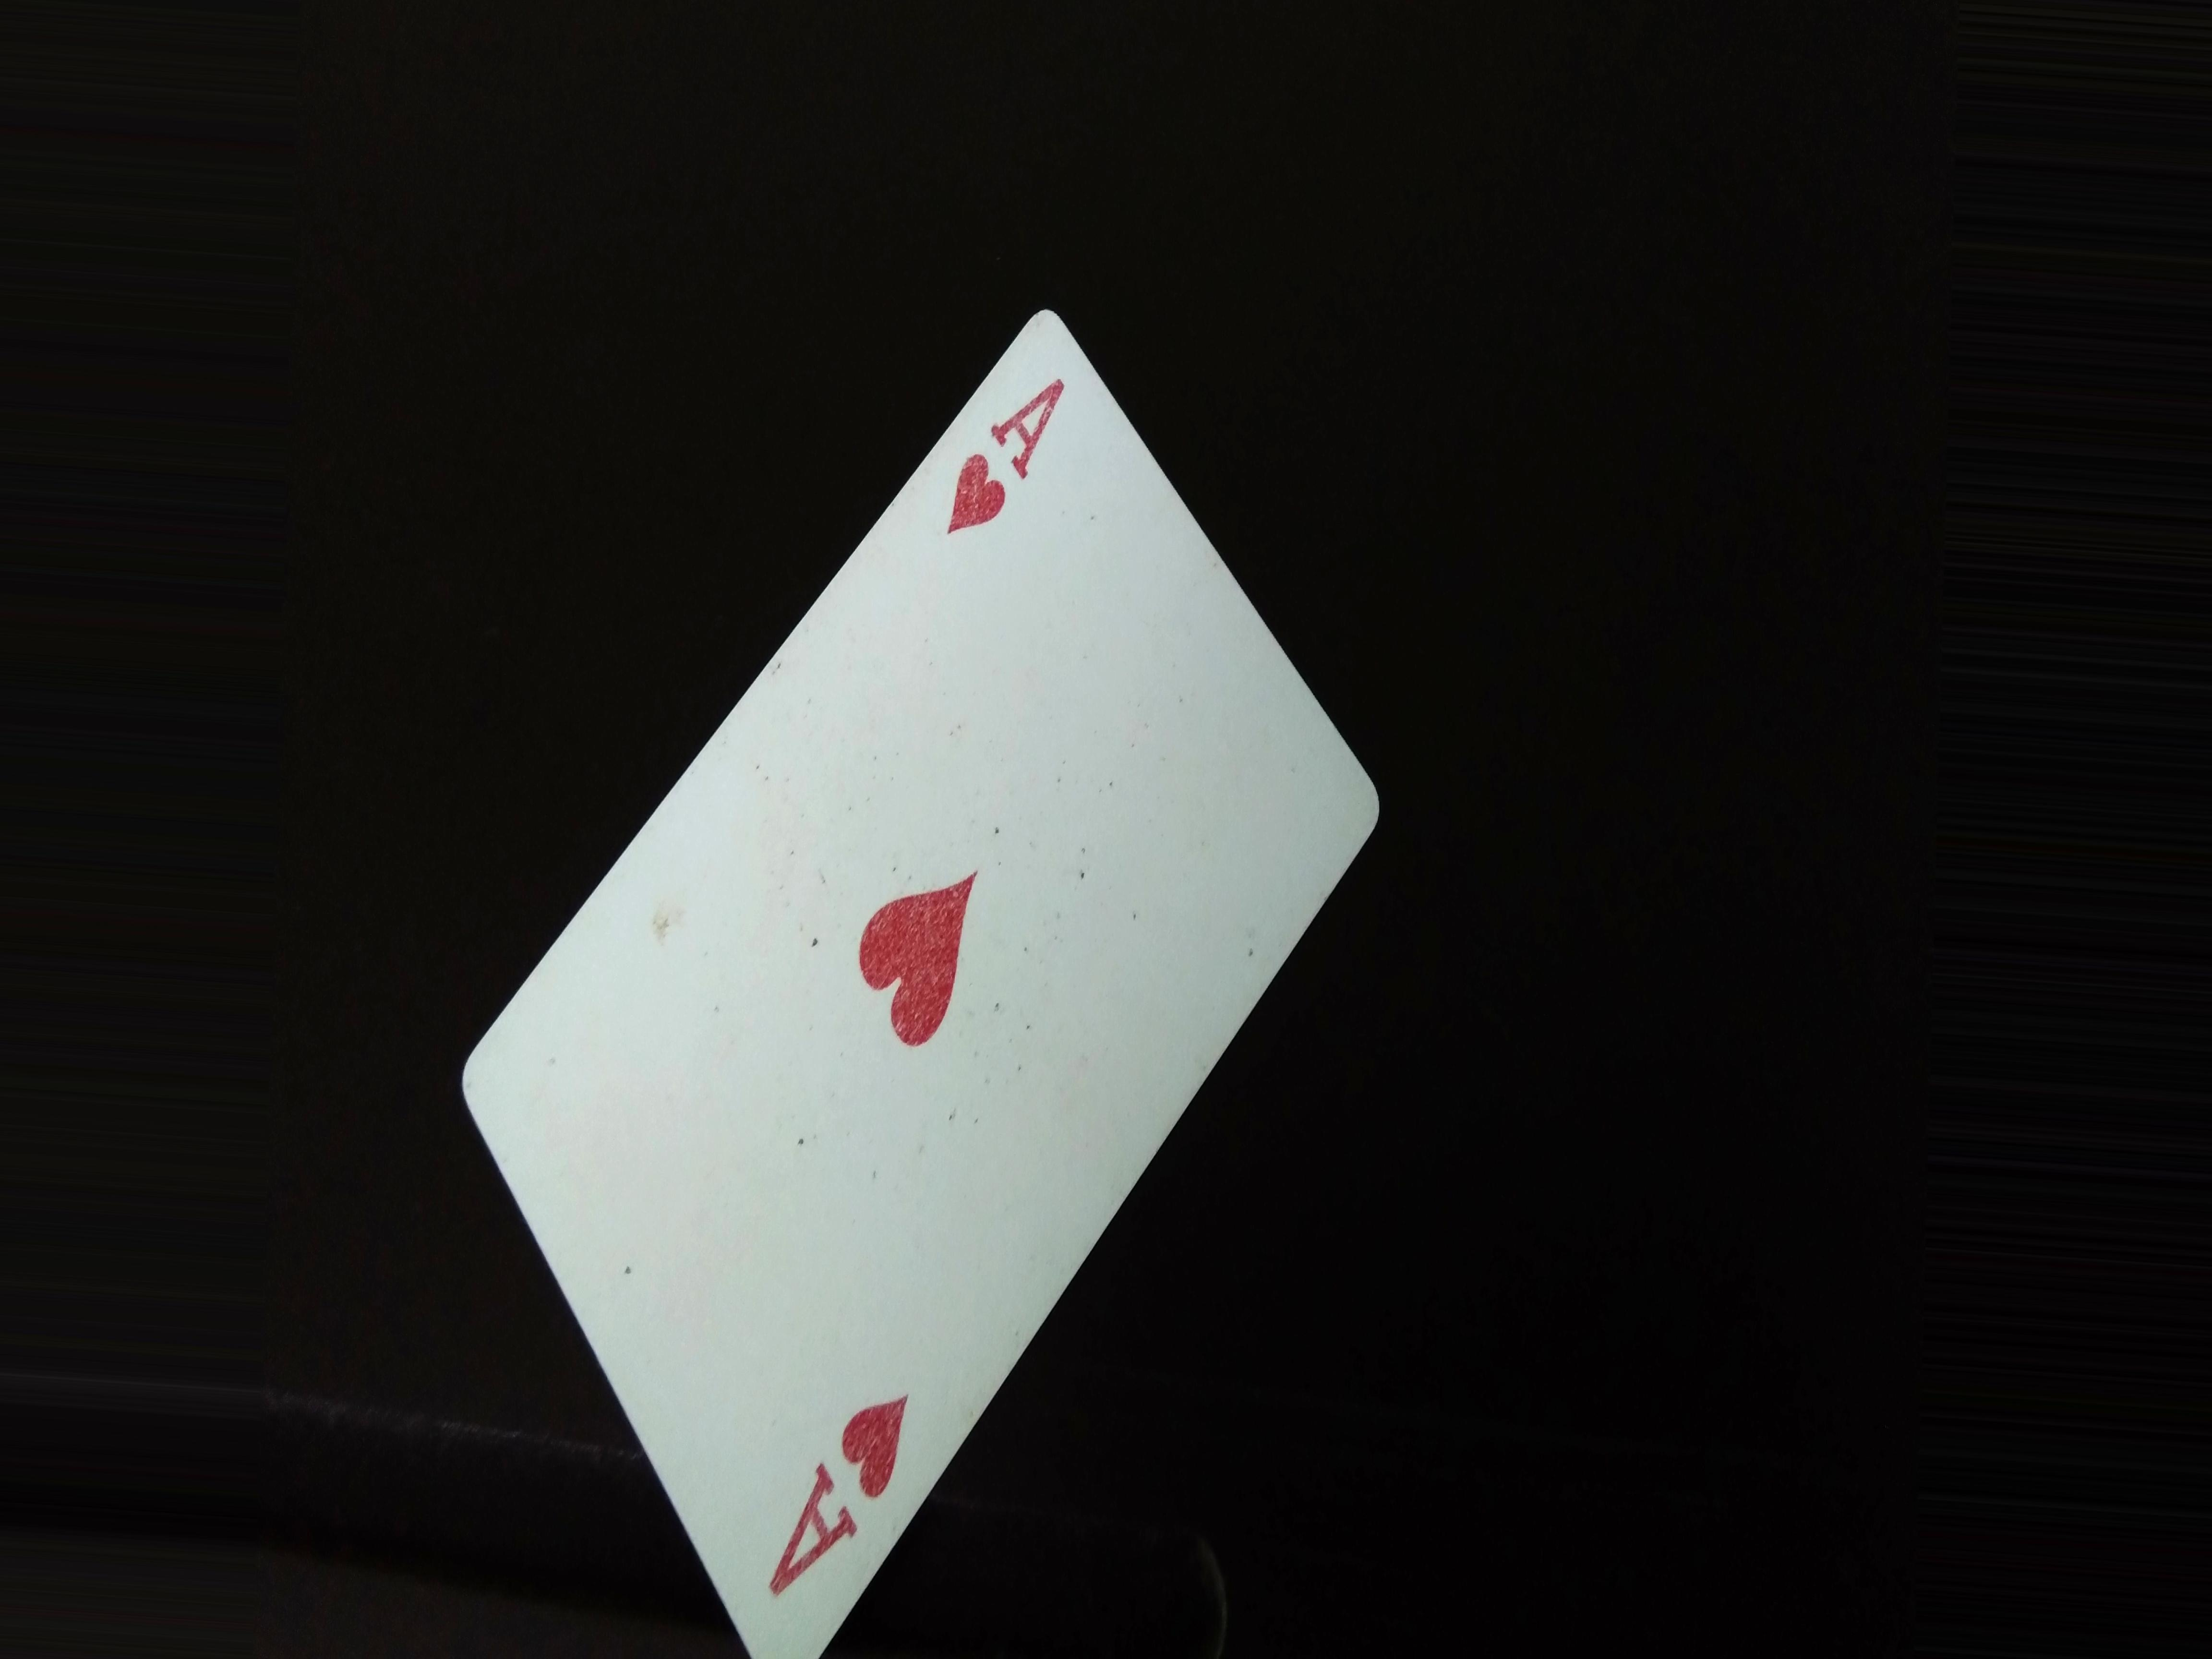AH: (939, 368, 1073, 547)
